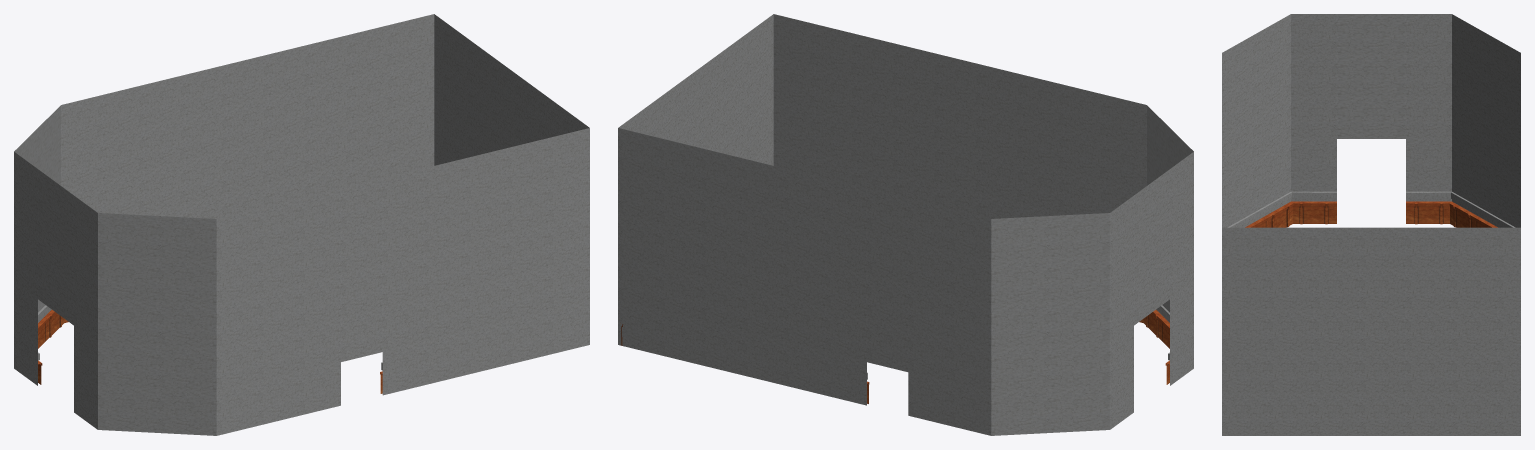
Rendered from SM_Hall.fbx.
3 views of the same model, side by side, from view 1: azimuth 30°, elevation 25°; view 2: azimuth 150°, elevation 25°; view 3: azimuth 270°, elevation 25° (orthographic). The views are drawn at different scales.
Visible parts, largest first — view 1: SM_Hall; view 2: SM_Hall; view 3: SM_Hall.
Boxes of the visible parts, x1=… form: SM_Hall: x1=14, y1=14, x2=589, y2=435; SM_Hall: x1=618, y1=14, x2=1193, y2=435; SM_Hall: x1=1222, y1=14, x2=1520, y2=435.
Bounding box in the file's own units: 2200 × 1000 × 1300.
Materials: 2 (2 with a texture image).
